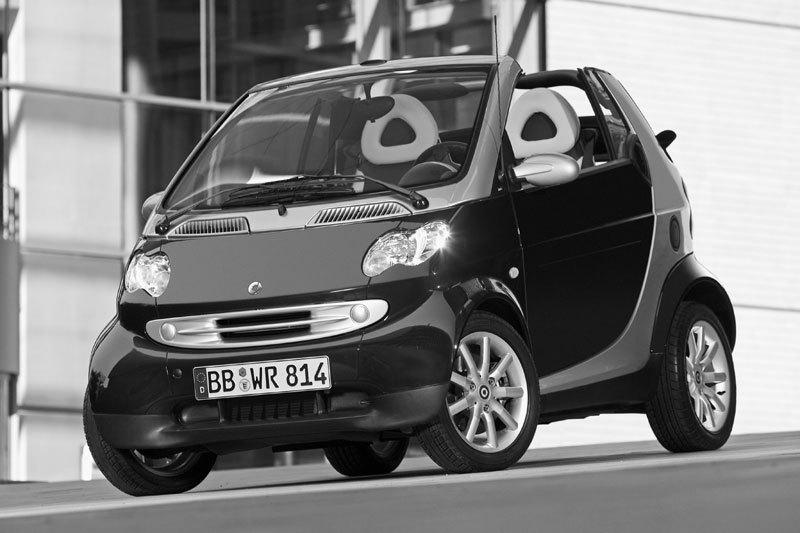car: (82, 56, 740, 502)
